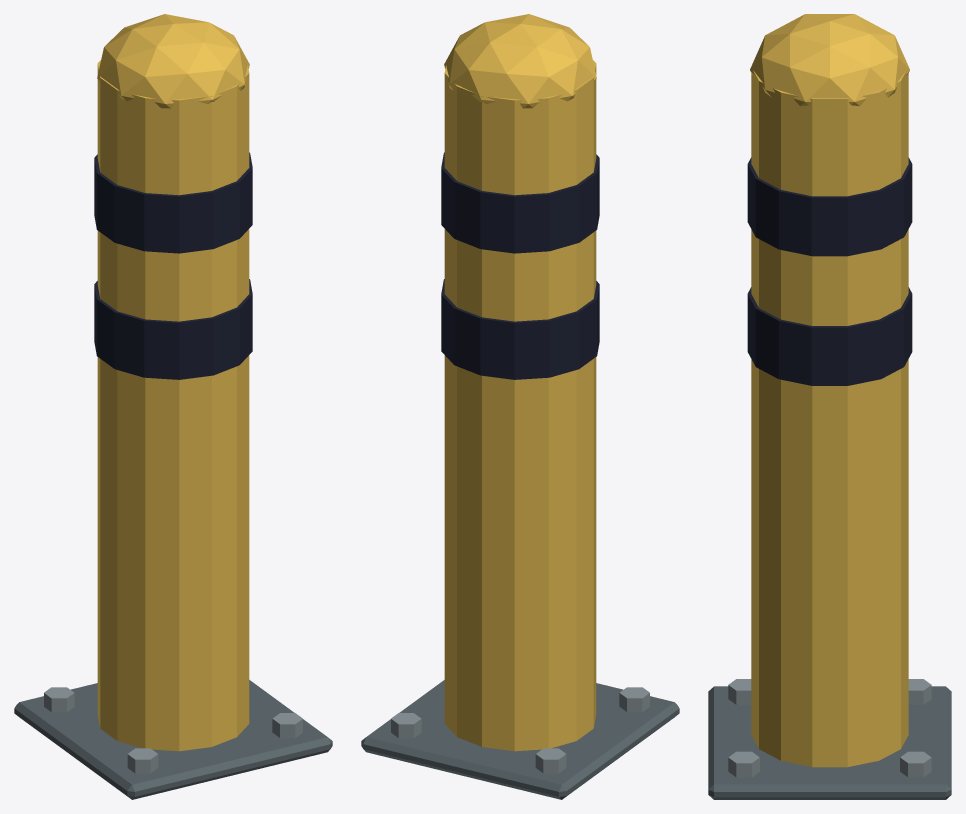
The model's file is sm_env_depot_bollard.glb.
3 views of the same model, side by side, from view 1: azimuth 30°, elevation 25°; view 2: azimuth 150°, elevation 25°; view 3: azimuth 270°, elevation 25° (orthographic). The views are drawn at different scales.
Visible parts, largest first — view 1: Post, BasePlate, Cap, Band.001, Band, Bolt.001, Bolt, Bolt.003; view 2: Post, BasePlate, Cap, Band.001, Band, Bolt, Bolt.001, Bolt.002; view 3: Post, BasePlate, Cap, Band.001, Band, Bolt.002, Bolt.003, Bolt, Bolt.001.
Boxes of the visible parts, <box> form: Post: <box>97,60,249,751</box>; BasePlate: <box>14,680,332,799</box>; Cap: <box>97,14,249,108</box>; Band.001: <box>94,152,252,253</box>; Band: <box>94,279,252,379</box>; Bolt.001: <box>127,748,158,773</box>; Bolt: <box>44,687,74,712</box>; Bolt.003: <box>272,713,302,738</box>; Post: <box>444,60,596,751</box>; BasePlate: <box>361,680,679,799</box>; Cap: <box>444,14,596,108</box>; Band.001: <box>441,152,599,253</box>; Band: <box>441,279,599,379</box>; Bolt: <box>535,748,566,773</box>; Bolt.001: <box>619,687,649,712</box>; Bolt.002: <box>391,713,421,738</box>; Post: <box>751,66,908,767</box>; BasePlate: <box>708,686,951,799</box>; Cap: <box>750,14,909,106</box>; Band.001: <box>747,157,912,256</box>; Band: <box>747,287,912,385</box>; Bolt.002: <box>900,751,931,777</box>; Bolt.003: <box>728,751,759,777</box>; Bolt: <box>908,679,931,704</box>; Bolt.001: <box>728,679,751,704</box>.
Bounding box in the file's own units: 0.34 × 1.12 × 0.34.
